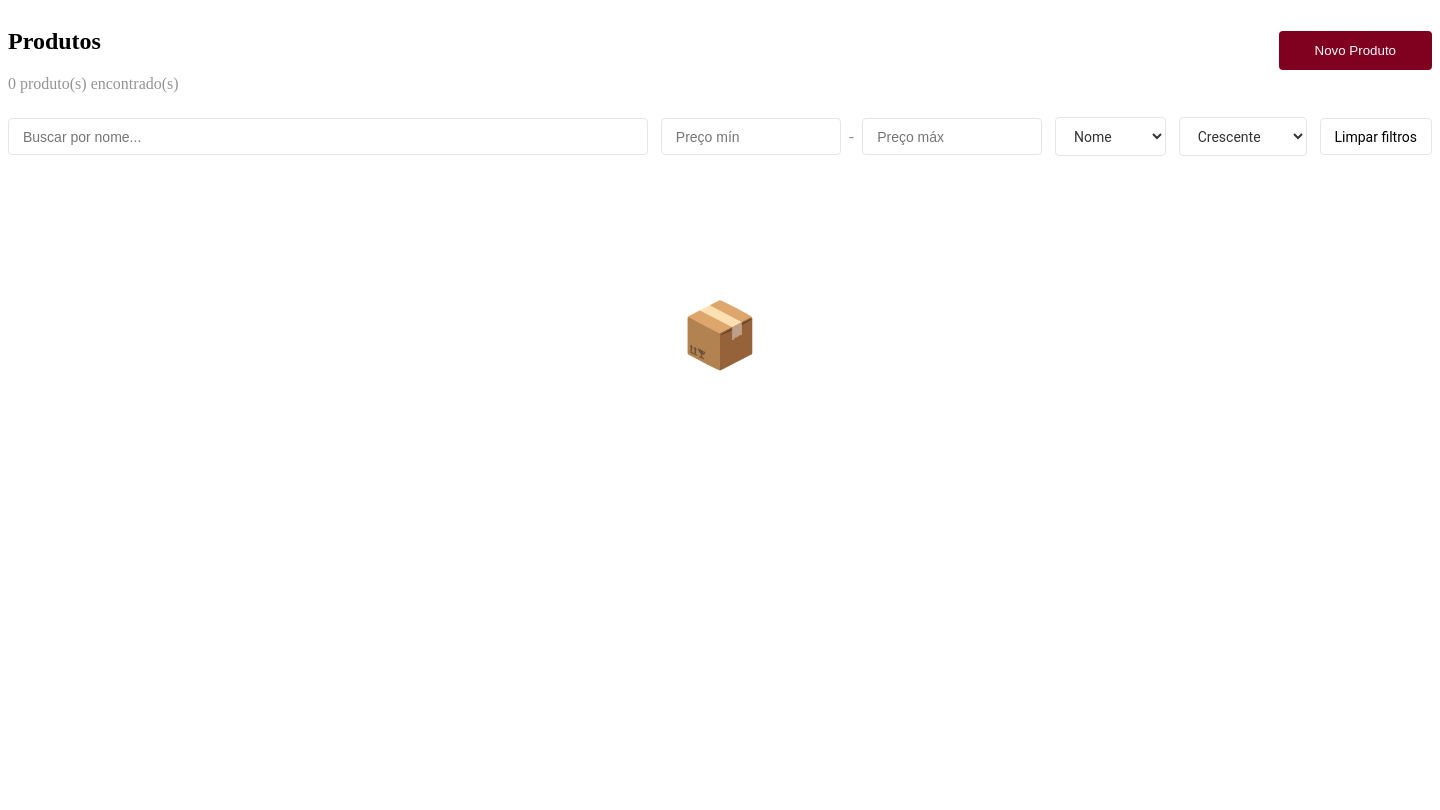
Test: Home page › opens product modal on desktop button
What coordinates should you click on to do the following:
click the button "Novo Produto"
I would click on:
 (1355, 50)
Its box is [1278,31,1432,70].
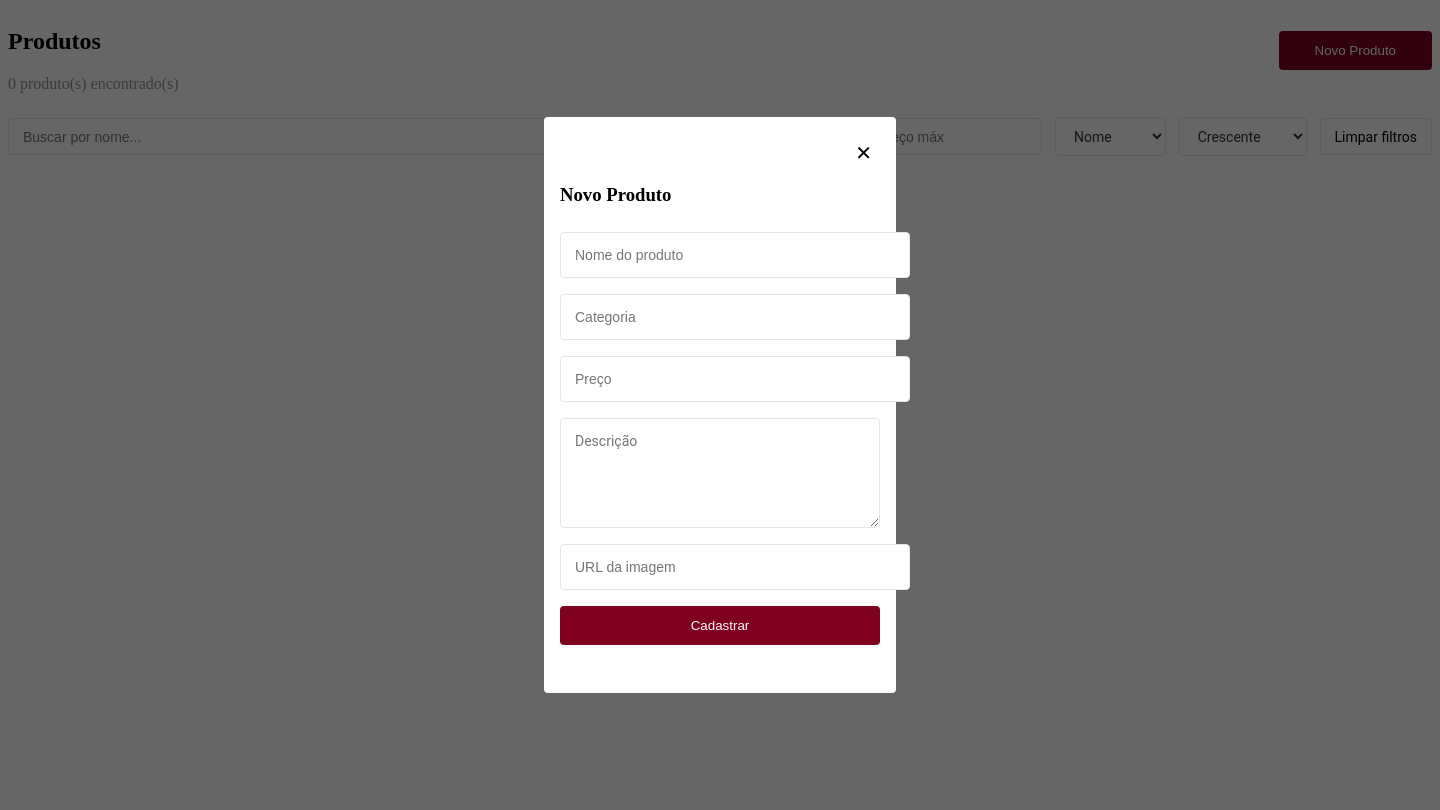
Result: the field with placeholder "Nome do produto" is shown at [560,232,910,278]
